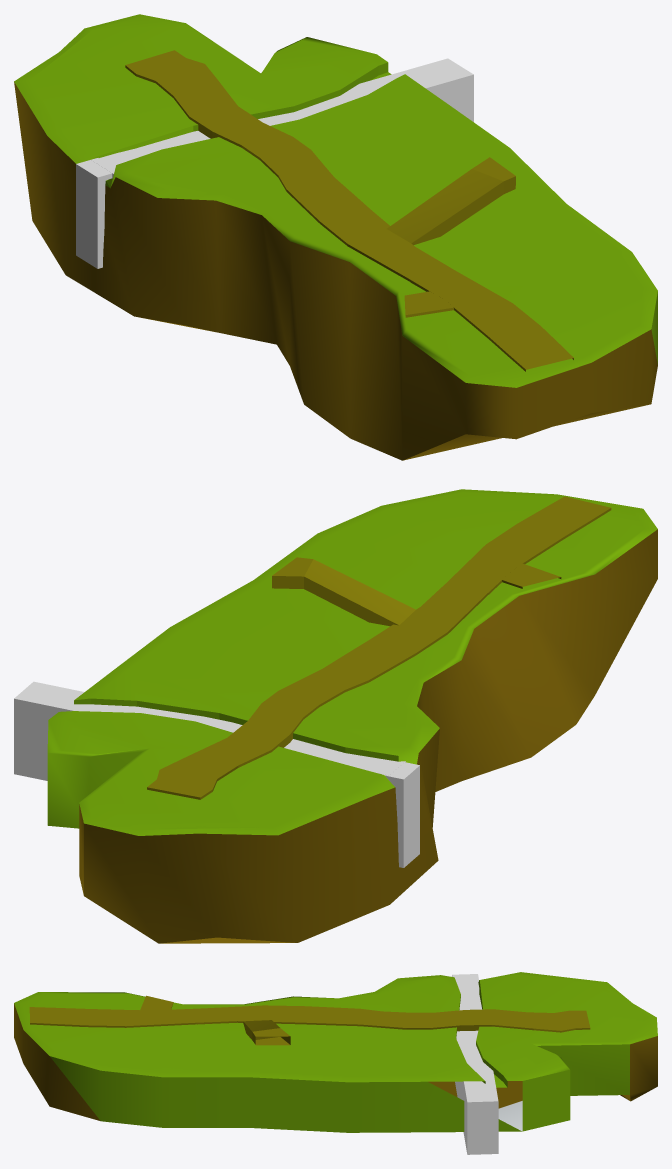
Rendered from SM_W_MainPlatform.fbx.
3 renders of one model, top to bottom at view 1: azimuth 30°, elevation 25°; view 2: azimuth 150°, elevation 25°; view 3: azimuth 270°, elevation 25°, orthographic. The views are drawn at different scales.
Visible parts, largest first — view 1: Cube10; view 2: Cube10; view 3: Cube10.
Part boxes in pixels (x1,y1,x2,y2): Cube10: (14, 14, 657, 460); Cube10: (14, 489, 657, 943); Cube10: (14, 972, 657, 1154).
Bounding box in the file's own units: 1142 × 454 × 2420.
